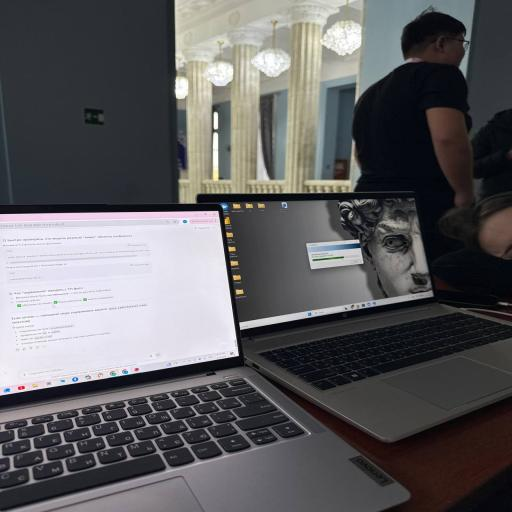glass_wall: (0, 205, 409, 511), (198, 193, 511, 441)
laptop: (353, 9, 473, 259)
